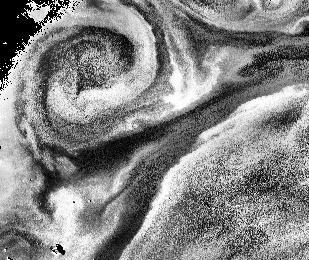AE: (13, 12, 150, 126)
